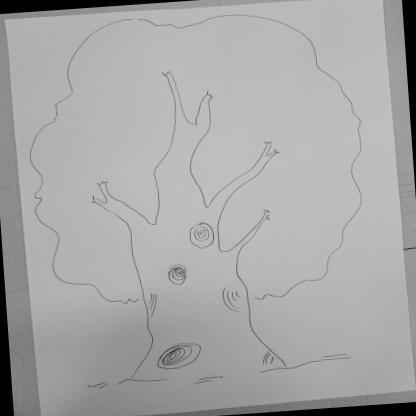branch_cut: (85, 65, 286, 253)
crown_cloud: (21, 0, 376, 316)
knot: (154, 338, 206, 373), (215, 282, 250, 314), (186, 223, 217, 250), (166, 264, 189, 286)
trunk_straight: (126, 248, 266, 345)
